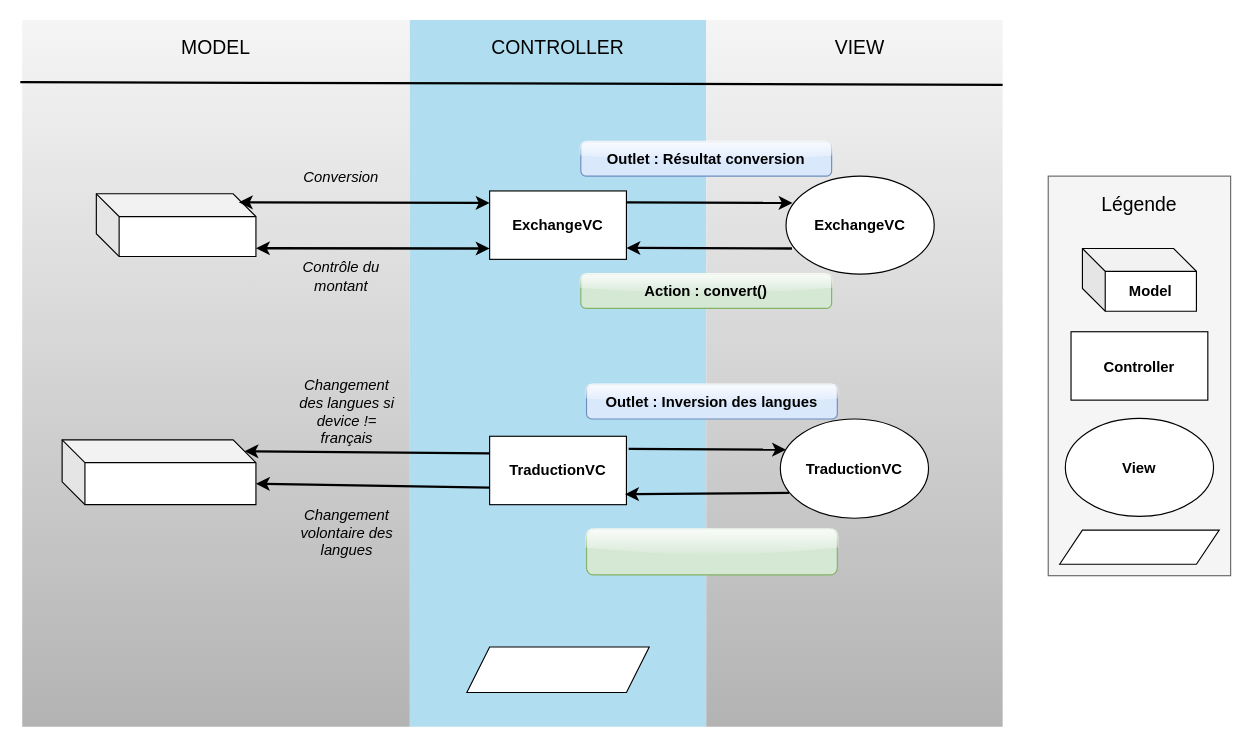
Image size: 1252x746. Some labels were removed from this diagram. Each missing label, with the centre of its shape:
"Action : exchangeSourceAndDestination()" goes at [711,551].
"ExchangeControl" goes at [175,224].
"Extension" goes at [557,669].
"Fichier support" goes at [1138,546].
"LanguageConfiguration" goes at [158,472].
